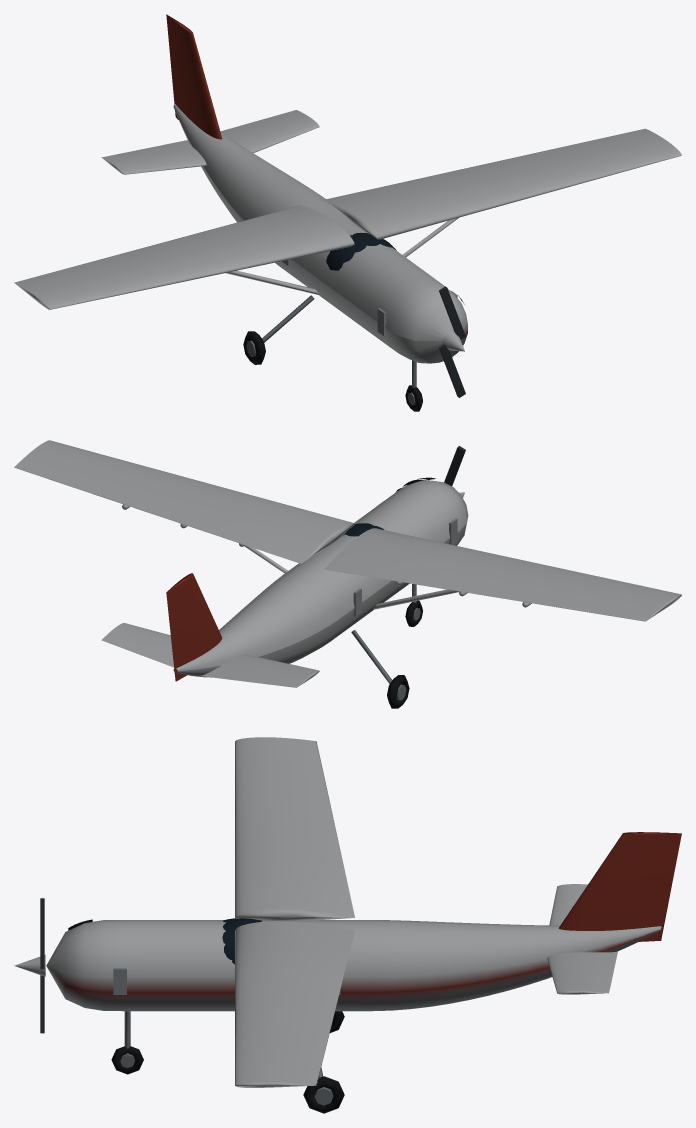
File: lightprop.glb
3 renders of one model, top to bottom at view 1: azimuth 30°, elevation 25°; view 2: azimuth 150°, elevation 25°; view 3: azimuth 270°, elevation 25°, orthographic. The views are drawn at different scales.
Bounding box in the file's own units: 11 × 3.59 × 9.02.
